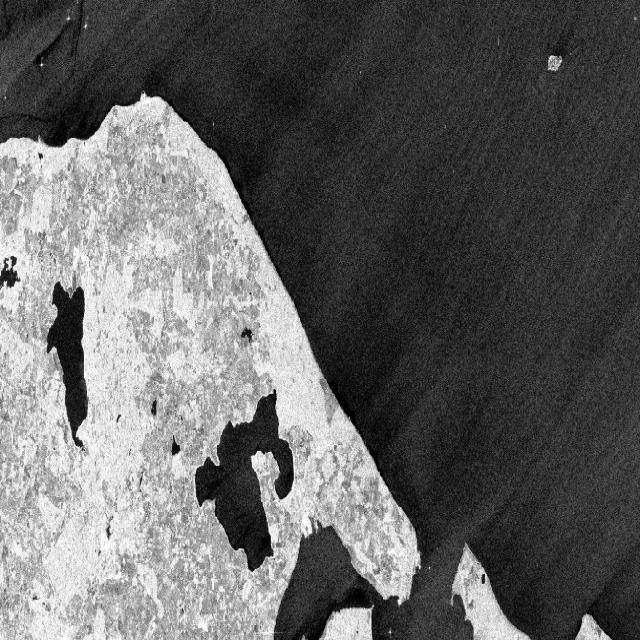look-alike: (17, 98, 98, 153), (296, 587, 371, 639)
oil-spill: (30, 24, 70, 70), (75, 5, 87, 66)
ship: (82, 20, 90, 34), (38, 59, 47, 71), (65, 13, 71, 25)
